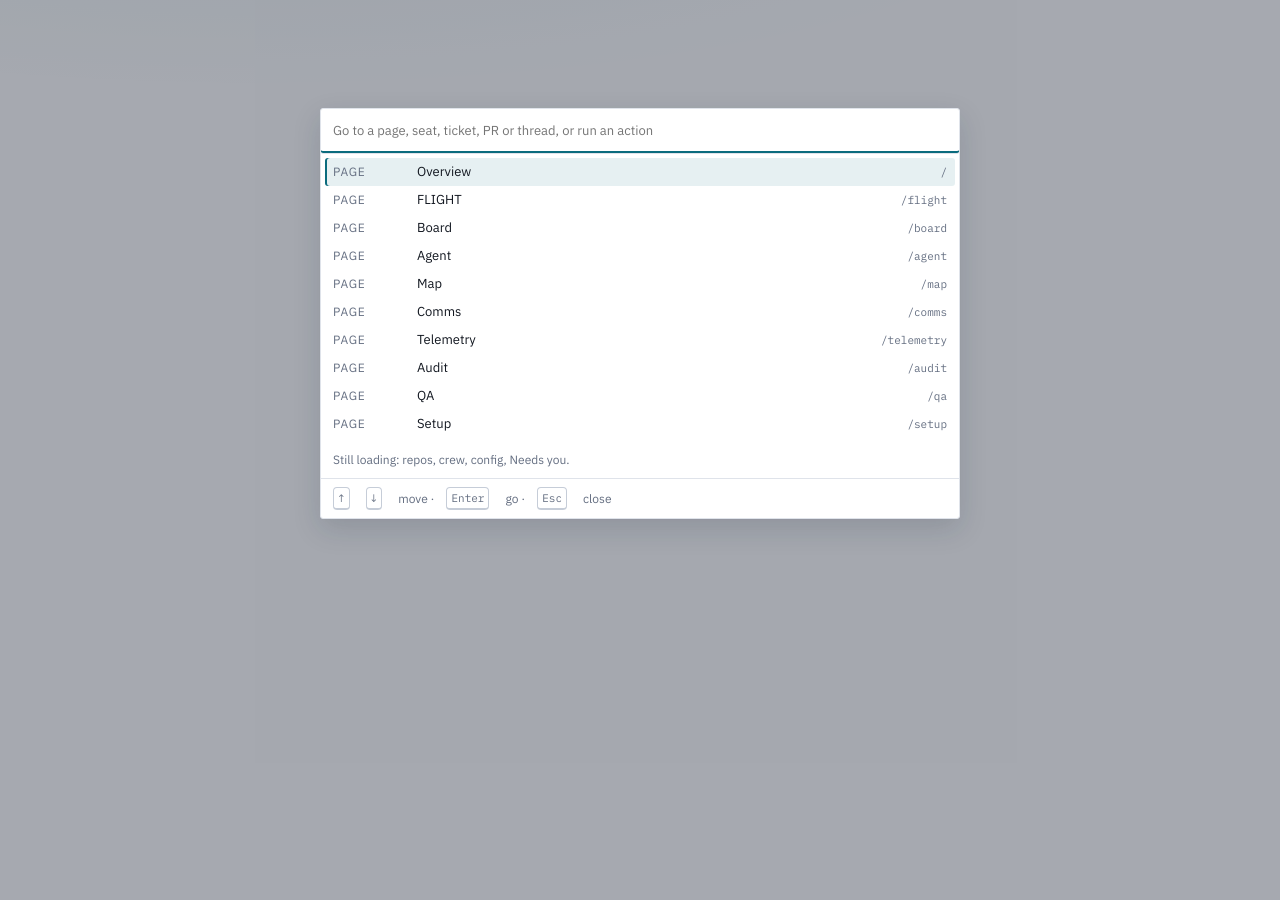
Test case: CommandPalette › names a source that failed, and does not say nothing matches
The width and height of the screenshot is (1280, 900).
In the dropdown: point(640, 132) [321,109,959,154], type "zzzqq"
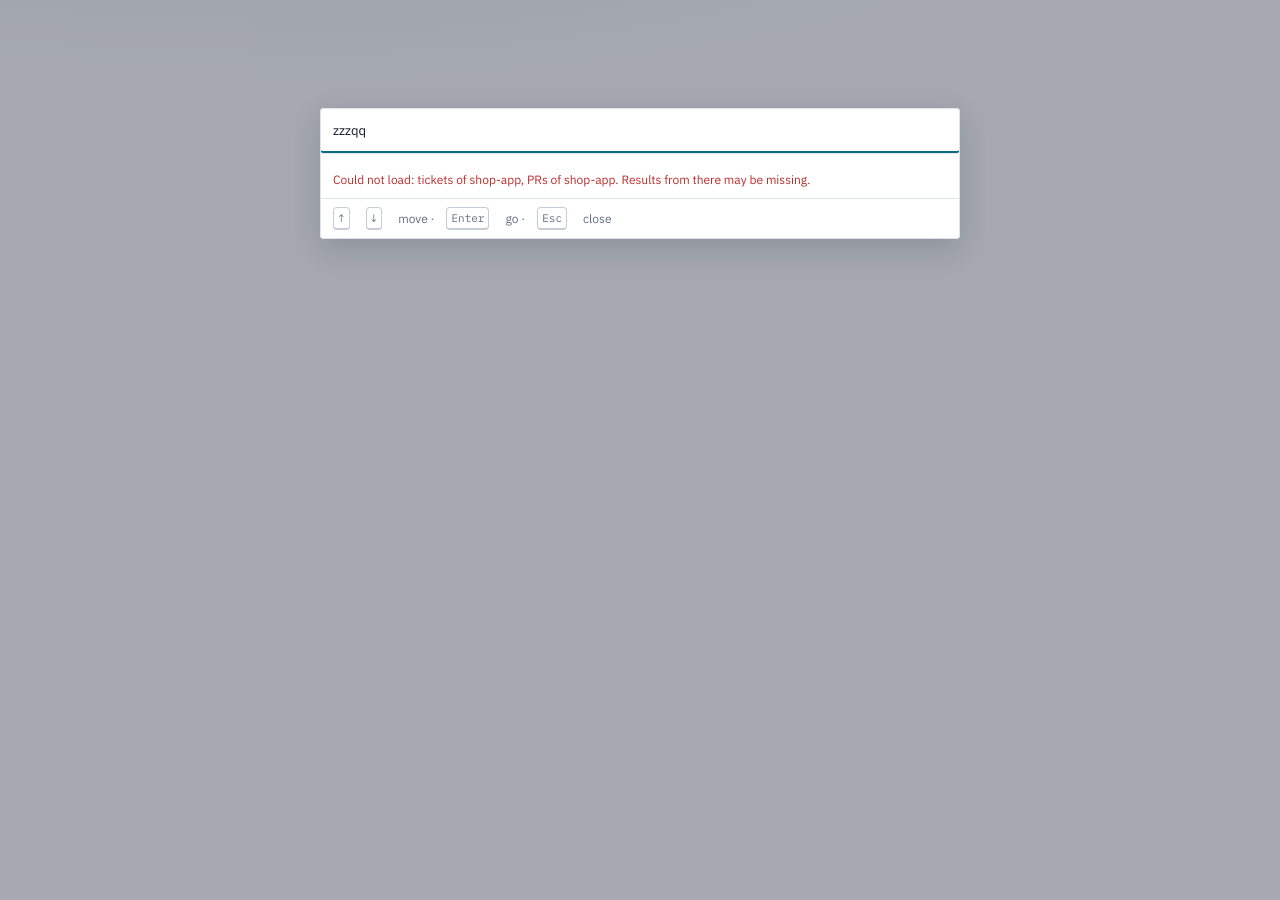
Result: the message shows "tickets of shop-app" at [333,172,811,187]
Result: the message shows "PRs of shop-app" at [333,172,811,187]
